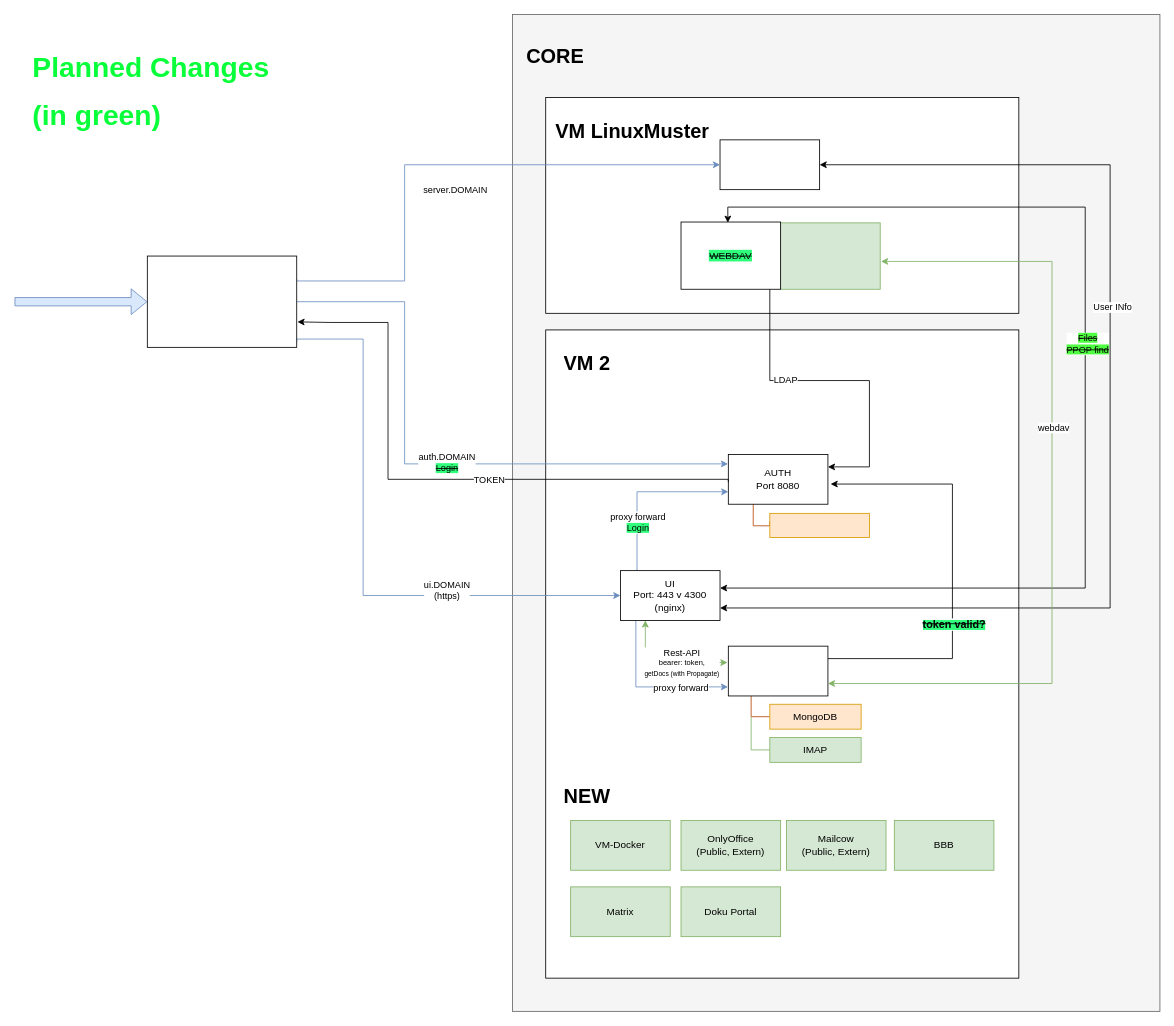
The diagram is 1174 pixels wide and 1026 high, and some of its shapes have lost their labels. The shapes that lost their labels are listed below. From the top down, each one's centre as x and y in pixels, then its label:
At point 769,164: "LMN - API (Schulconsole)".
At point 830,255: "SHOULD BE: File Server".
At point 221,301: "OPNsense firewall".
At point 819,525: "PostrcreSQL".
At point 777,670: "EDU - API".
